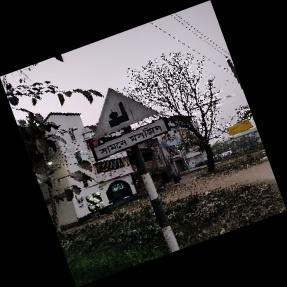Mosque in front: (86, 83, 173, 164)
